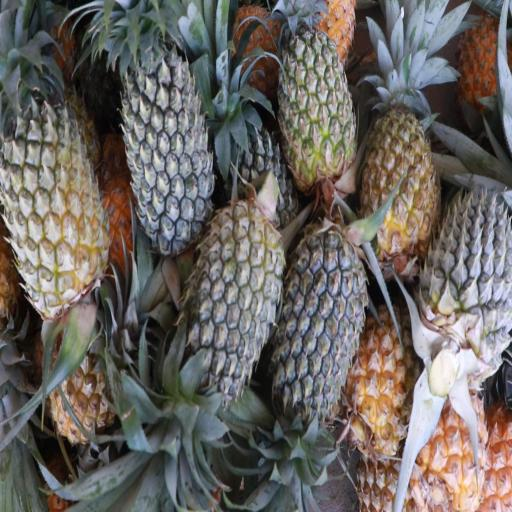------------------------------: (2, 96, 106, 310), (279, 23, 355, 197)
Pineapple - v8 v1: (362, 64, 441, 260), (50, 314, 156, 448), (354, 297, 430, 463), (415, 382, 486, 512)
